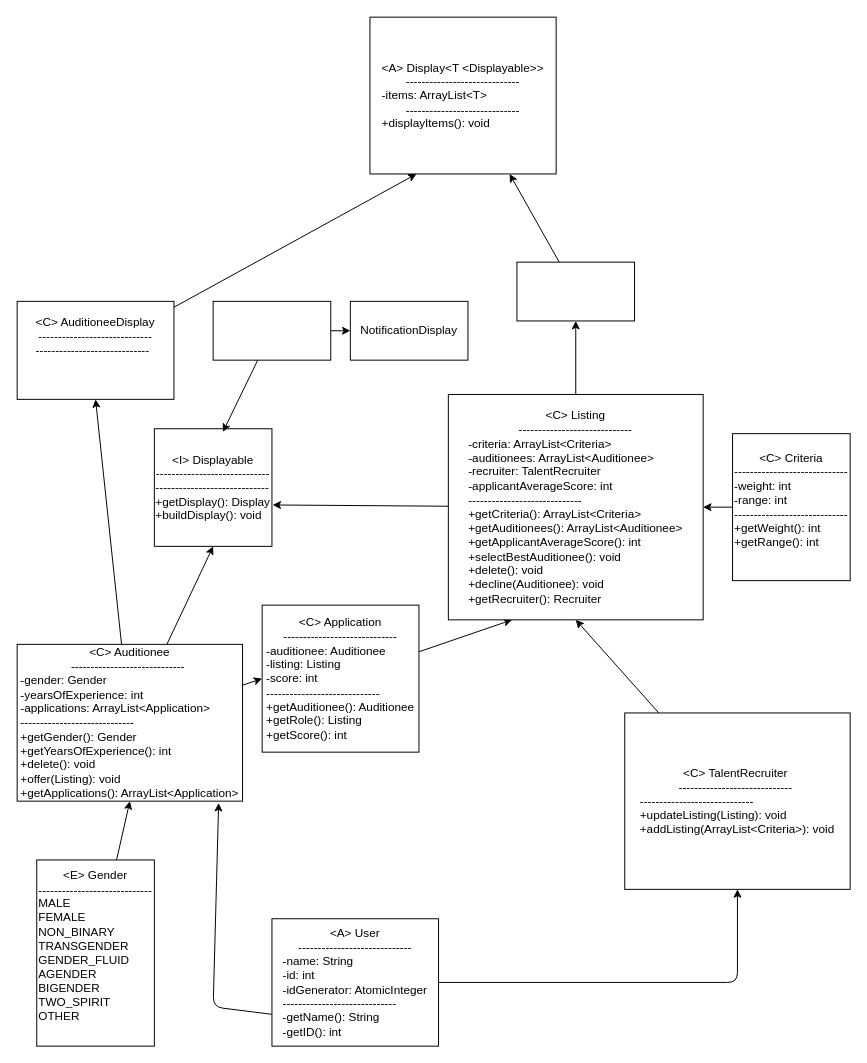
The diagram is 867 pixels wide and 1063 high, and some of its shapes have lost their labels. Each missing label, with the centre of its shape:
<C> ListingDisplay ----------------------------- -----------------------------: (x=575, y=291)
Notification: (x=271, y=330)
